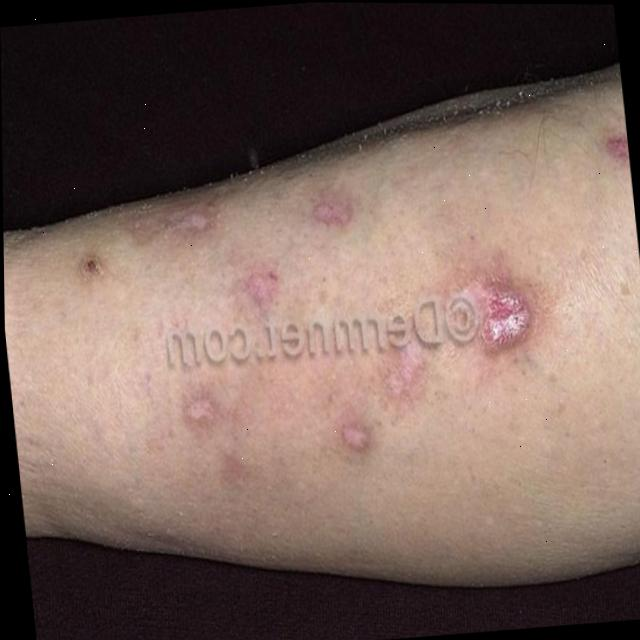Eczema: (168, 163, 559, 492)
